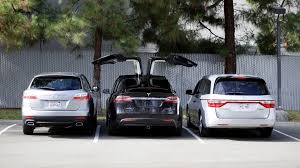car: (186, 76, 278, 133), (108, 73, 184, 133), (22, 73, 96, 134)
